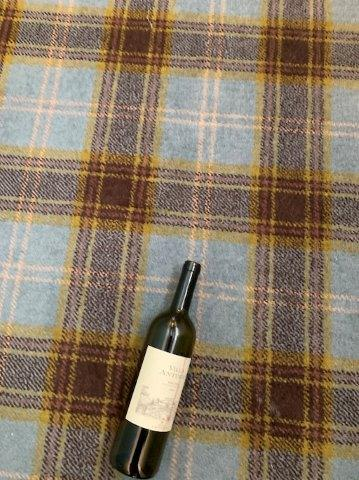botolkaca: (108, 262, 202, 479)
